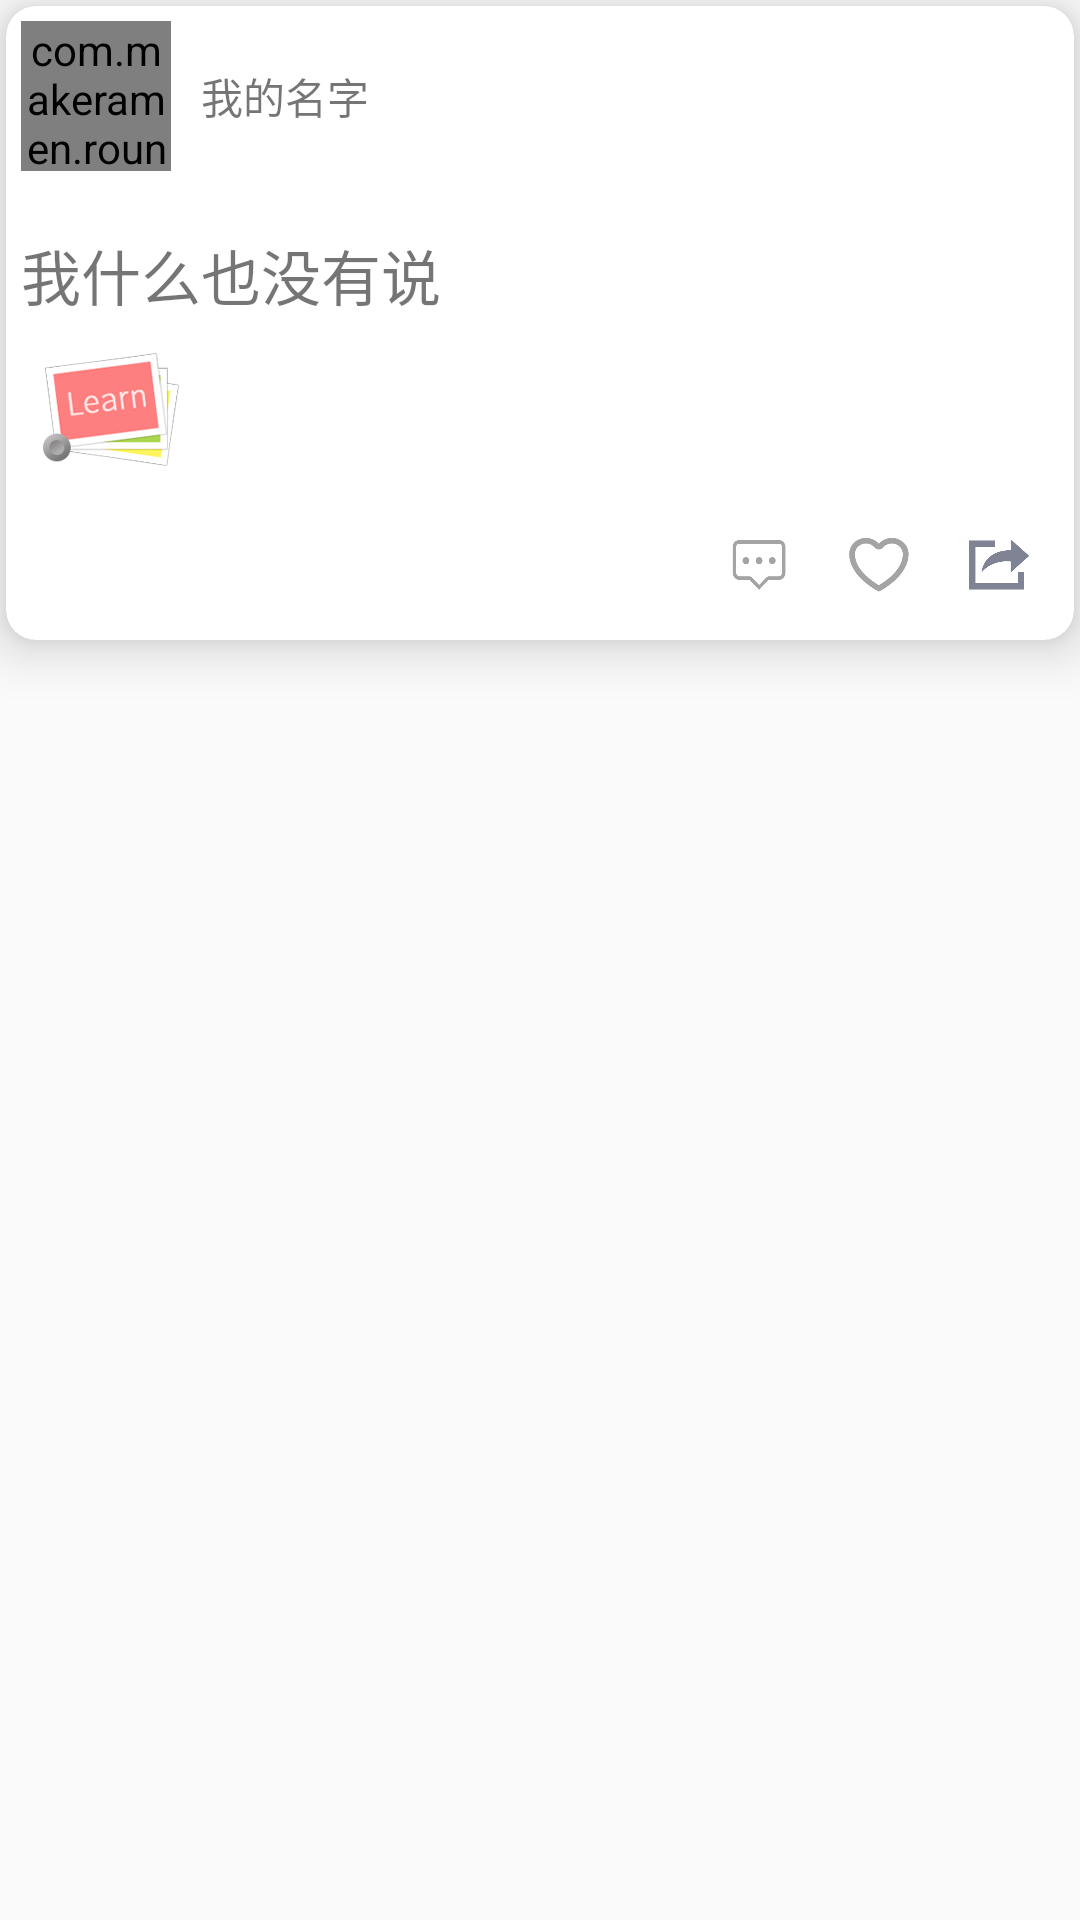

Screen size 1080 x 1920. Icon name, then its center in pixels as (x=x, y=y):
share: (x=999, y=565)
share comment: (x=759, y=565)
share praise unclick: (x=879, y=565)
